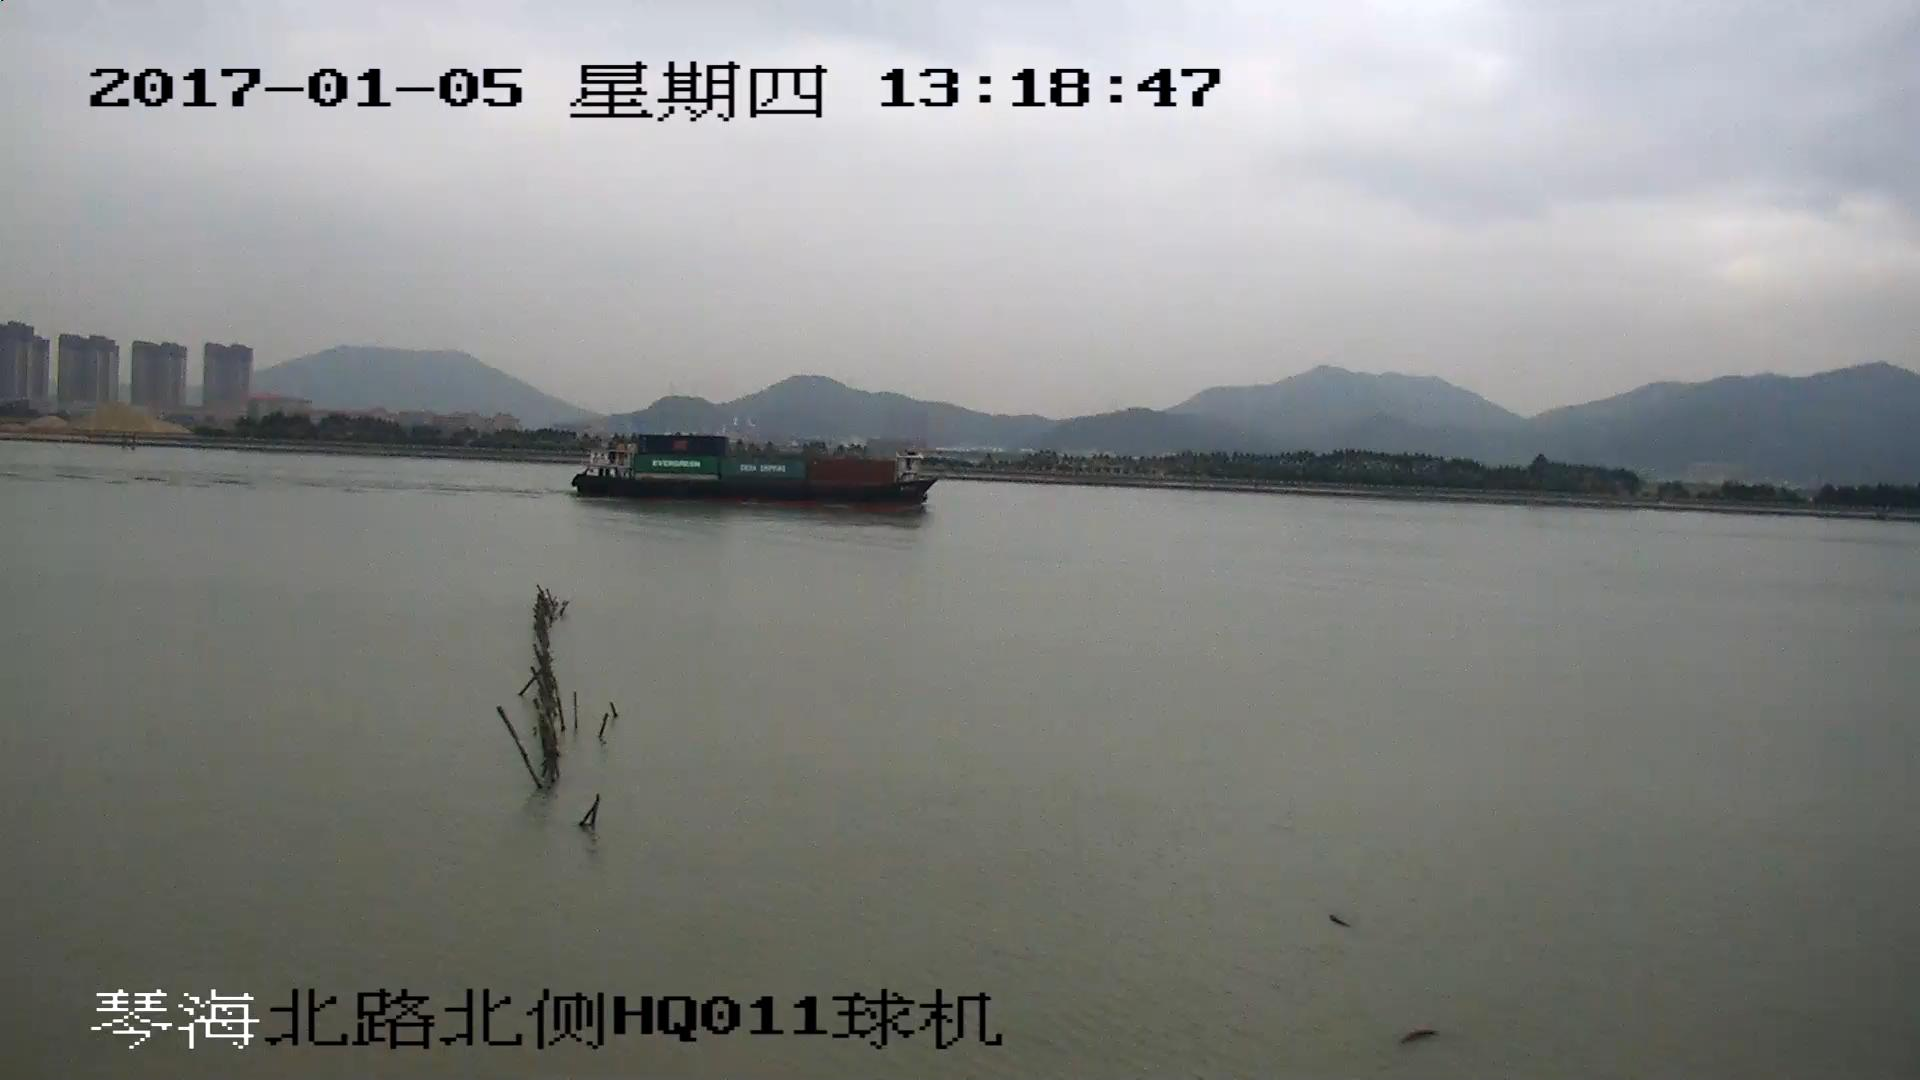container ship: (570, 432, 937, 510)
